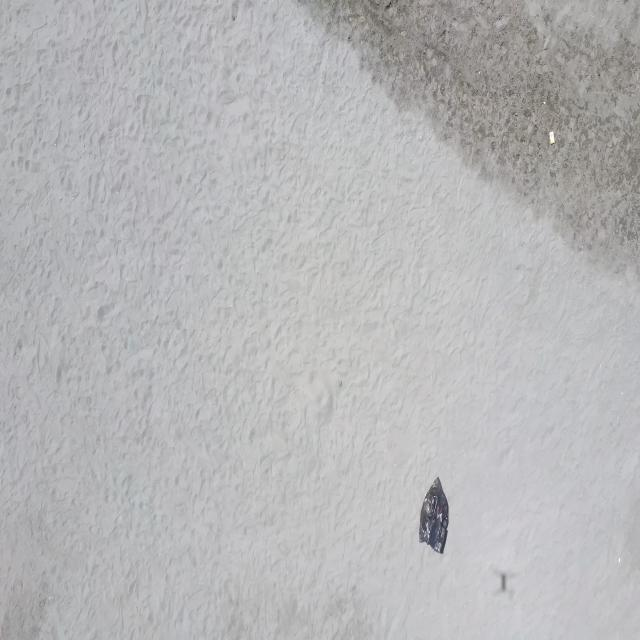retort-pouch: (549, 131, 555, 146)
